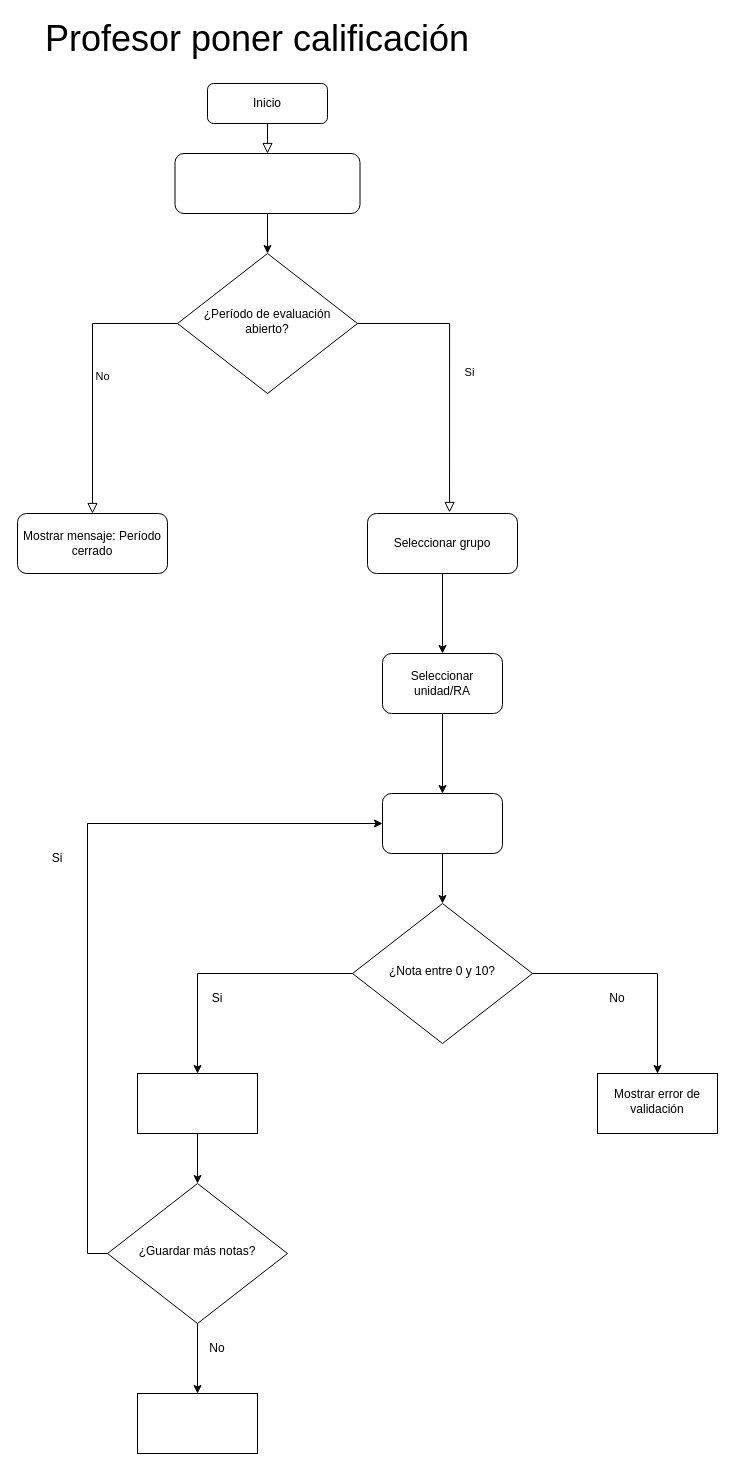
Image size: 735x1471. Some labels were removed from this diagram. The centre of each missing label's shape, as x and y in pixels:
Fin: (x=197, y=1423)
Guardar nota en BD: (x=197, y=1103)
Profesor accede a su pantalla: (x=267, y=183)
Ver lista de alumnos del grupo: (x=442, y=823)
